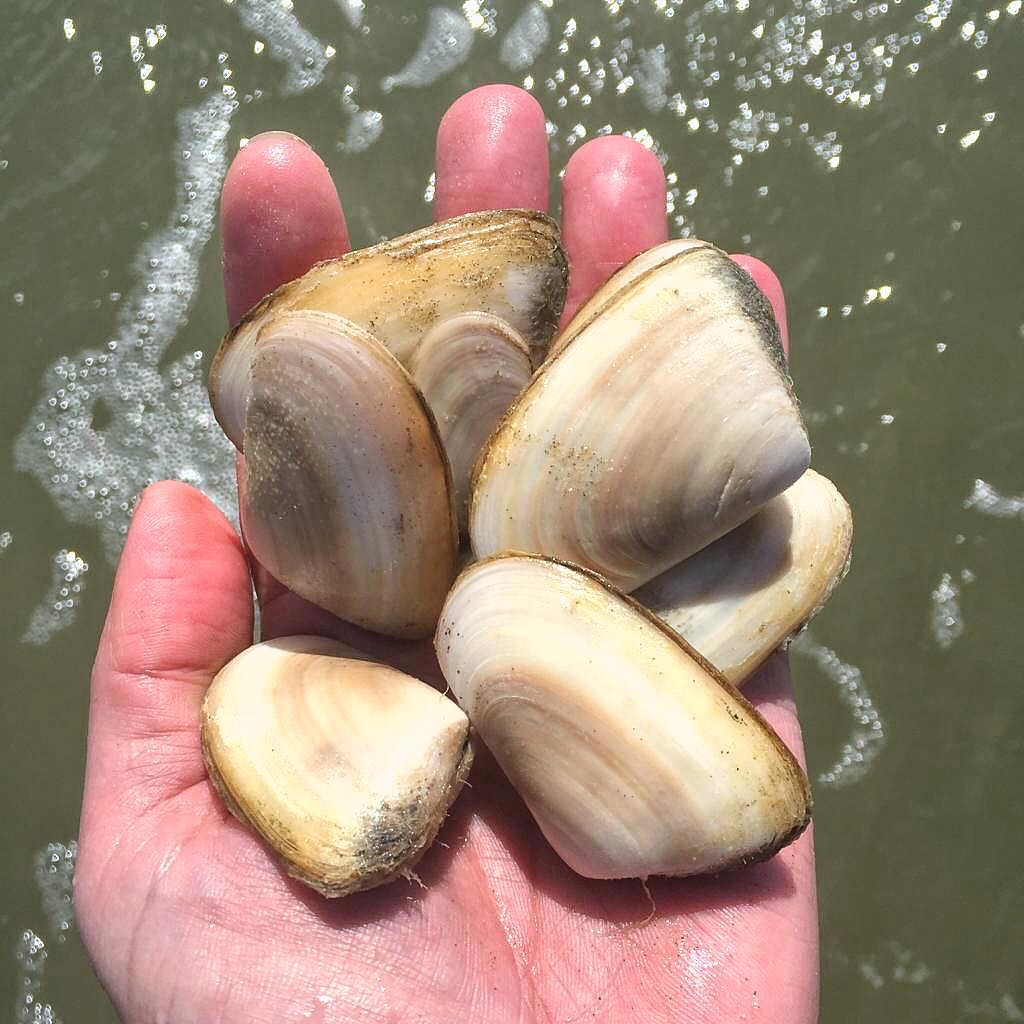tuatua: (461, 232, 820, 608), (430, 545, 816, 887), (194, 629, 473, 909), (237, 309, 460, 648), (192, 204, 578, 396)
